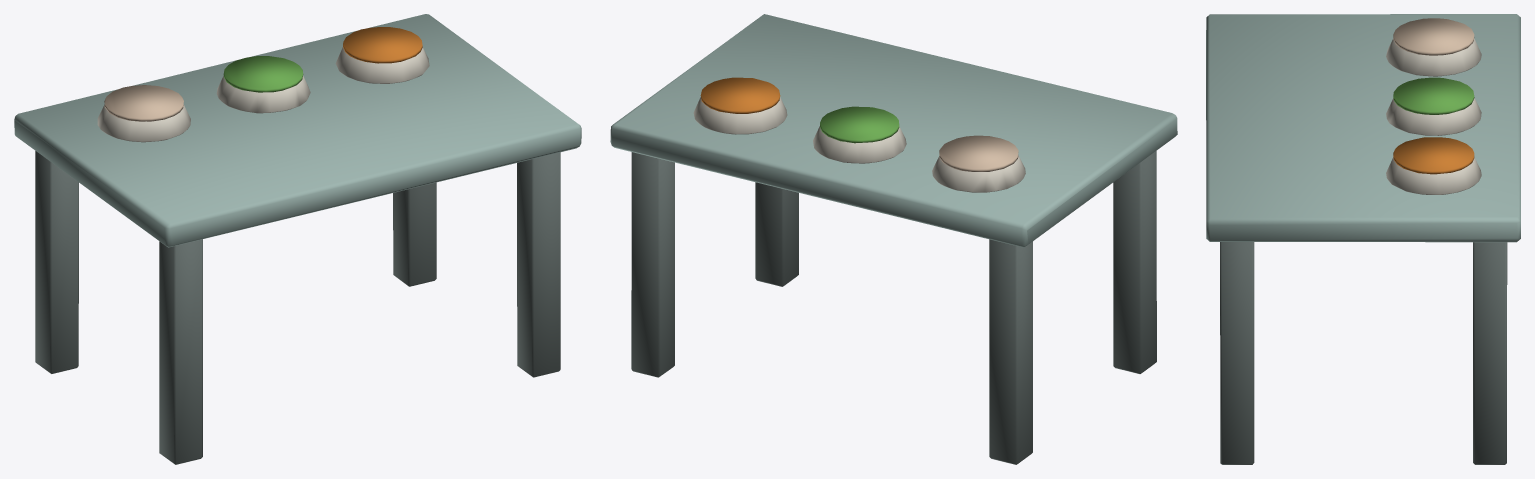
Rendered from ban_rap.glb.
3 views of the same model, side by side, from view 1: azimuth 30°, elevation 25°; view 2: azimuth 150°, elevation 25°; view 3: azimuth 270°, elevation 25° (orthographic). The views are drawn at different scales.
Parts seen in each view (by area): view 1: ban_rap; view 2: ban_rap; view 3: ban_rap.
Part boxes in pixels (left/top/right/bottom): ban_rap: left=14, top=14, right=581, bottom=464; ban_rap: left=610, top=14, right=1177, bottom=464; ban_rap: left=1206, top=14, right=1520, bottom=464.
Bounding box in the file's own units: 0.6987 × 0.4323 × 0.4484.
